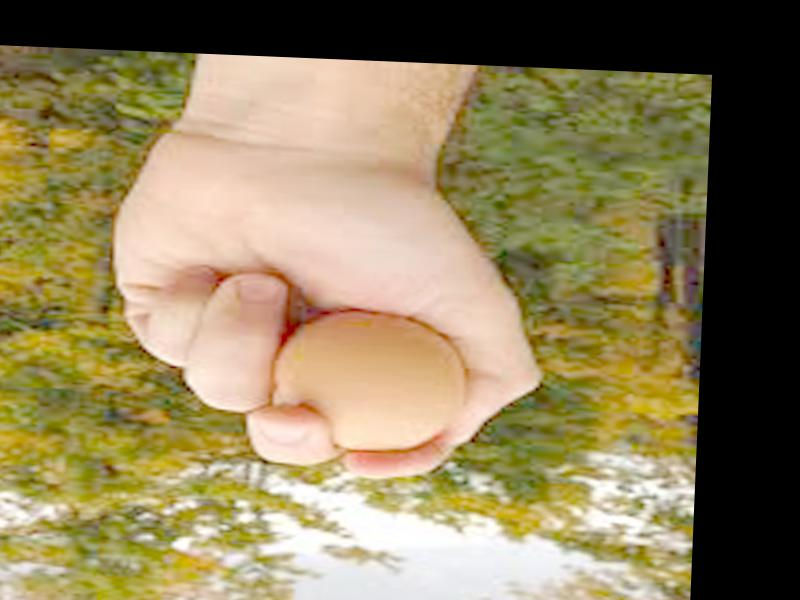Eggs: (262, 308, 466, 453)
